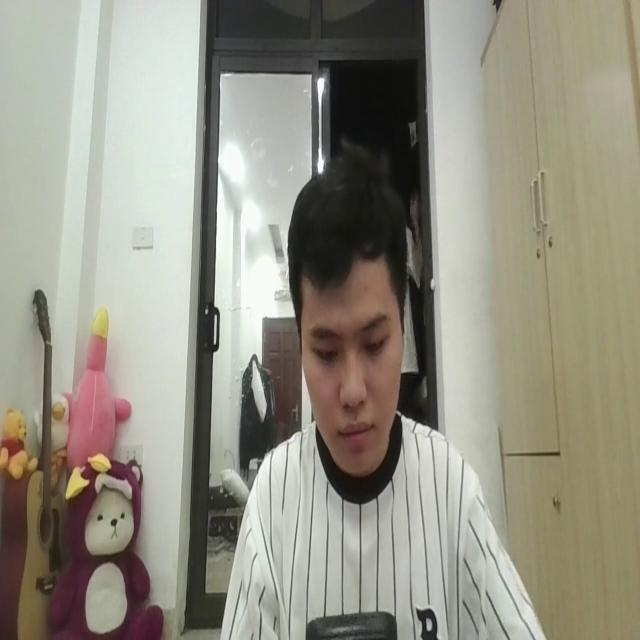phone: (306, 601, 396, 640)
student: (221, 146, 546, 640)
